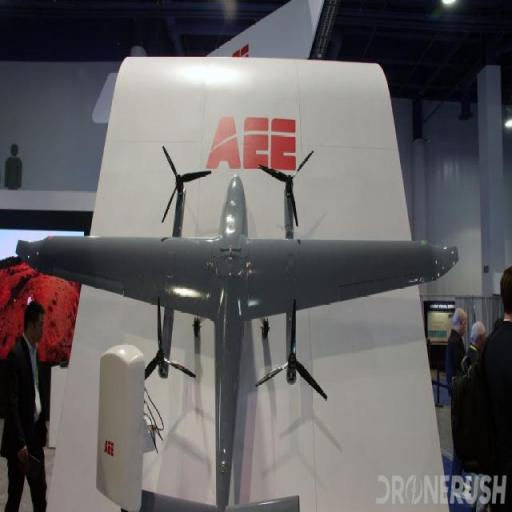uav: (18, 140, 464, 512)
